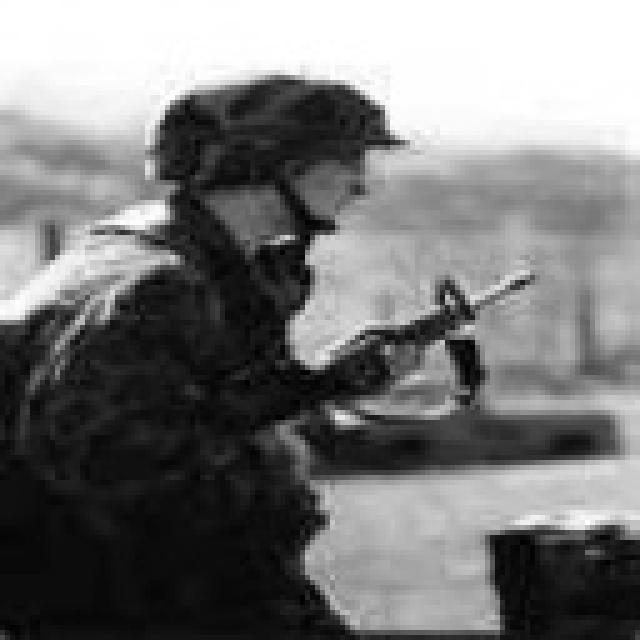Rifle: (228, 247, 548, 468)
